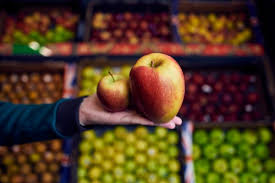apple: (134, 50, 183, 119), (92, 73, 131, 111)
